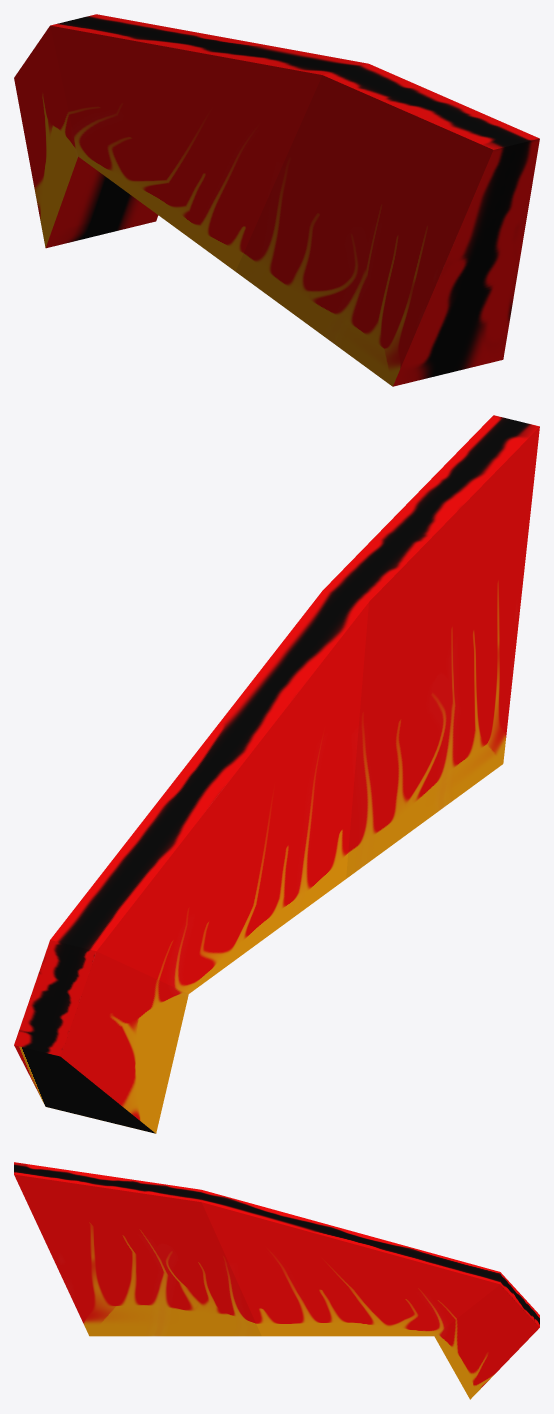
File: Mohawk.fbx
The picture shows the model from 3 angles, top to bottom: view 1: azimuth 30°, elevation 25°; view 2: azimuth 150°, elevation 25°; view 3: azimuth 270°, elevation 25°; orthographic projection. The views are drawn at different scales.
Visible parts, largest first — view 1: Hair.001; view 2: Hair.001; view 3: Hair.001.
Boxes of the visible parts, bbox=[...] form: Hair.001: bbox=[14, 14, 539, 386]; Hair.001: bbox=[14, 415, 539, 1133]; Hair.001: bbox=[14, 1162, 539, 1399].
Size of the model in its own units: 28 by 95.58 by 210.
